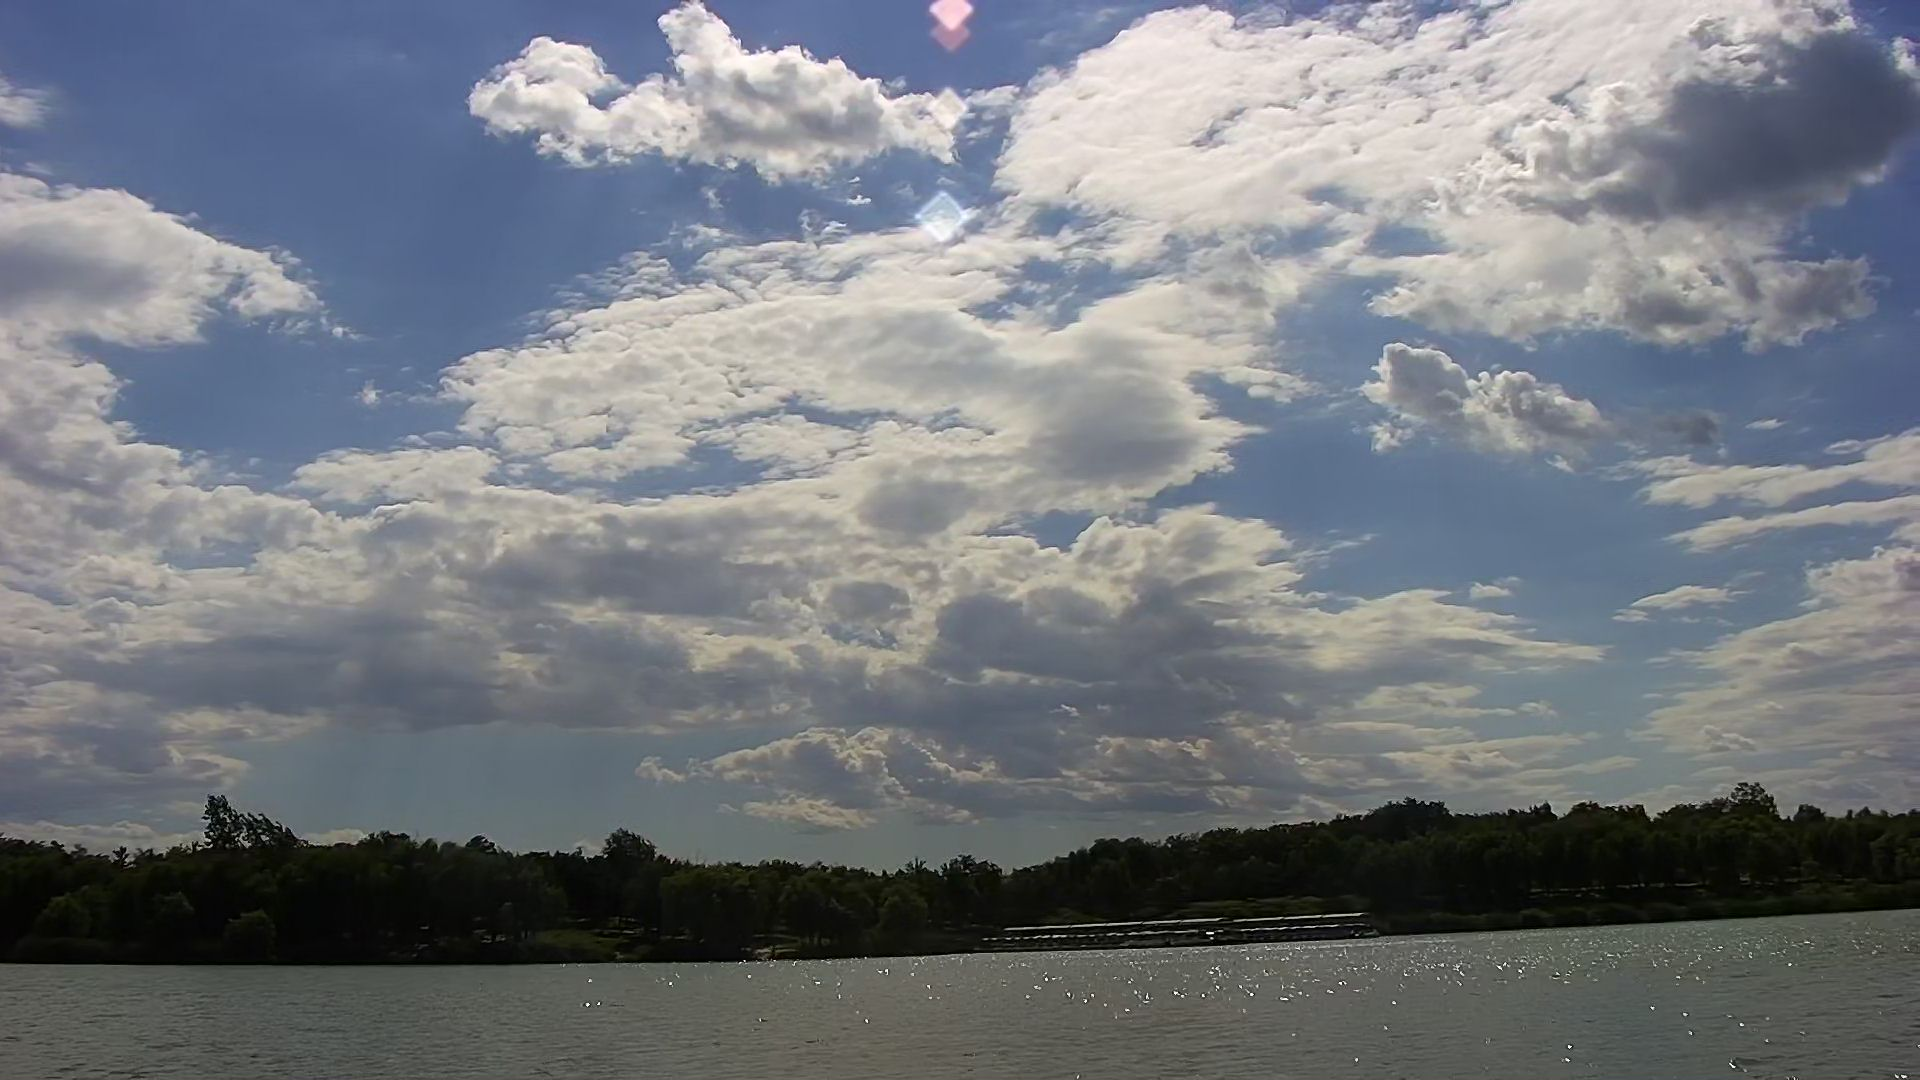harbor: (984, 893, 1371, 949)
